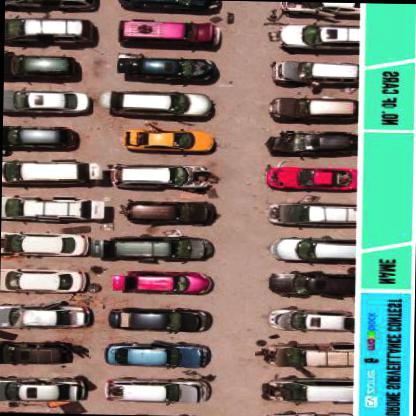car: (98, 234, 212, 262), (108, 162, 214, 192), (104, 339, 206, 370), (109, 304, 210, 333), (116, 20, 220, 48), (107, 375, 206, 404), (0, 373, 89, 405), (107, 90, 212, 117), (0, 301, 93, 331), (115, 55, 218, 82), (1, 196, 103, 223), (2, 159, 100, 187), (110, 270, 210, 297), (4, 14, 91, 45), (264, 95, 356, 124), (121, 128, 214, 156), (271, 199, 358, 228), (273, 21, 362, 49), (123, 199, 215, 226), (0, 230, 90, 257), (264, 342, 350, 370), (268, 164, 353, 192), (260, 378, 351, 404), (0, 266, 86, 293), (266, 272, 353, 298), (272, 60, 358, 86), (267, 308, 352, 334), (270, 238, 354, 264), (2, 124, 76, 152), (270, 130, 355, 154), (3, 90, 87, 113), (0, 340, 72, 365), (4, 56, 76, 78), (113, 0, 222, 13), (277, 3, 358, 18), (4, 0, 99, 12), (281, 2, 358, 12)
